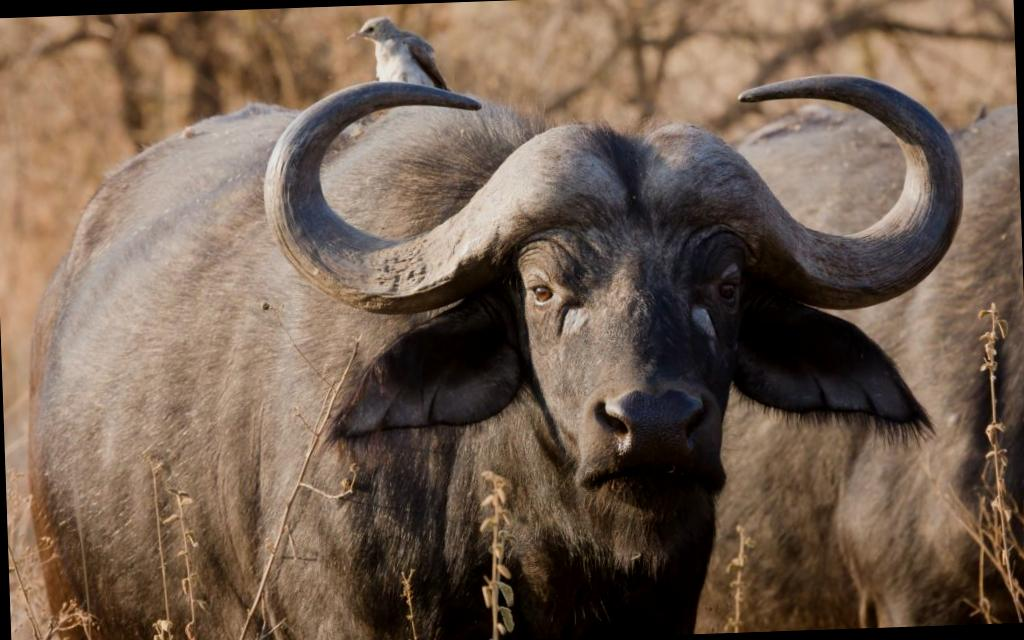Buffalo: (0, 9, 1003, 640)
